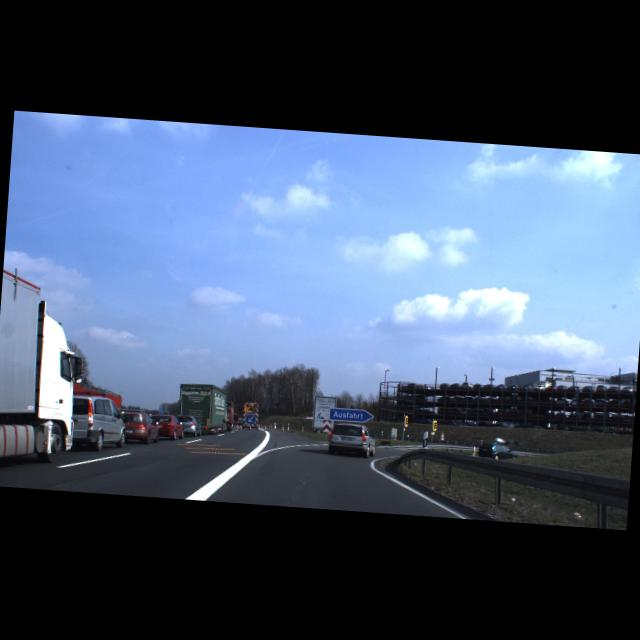mandatory: (244, 413, 256, 424)
